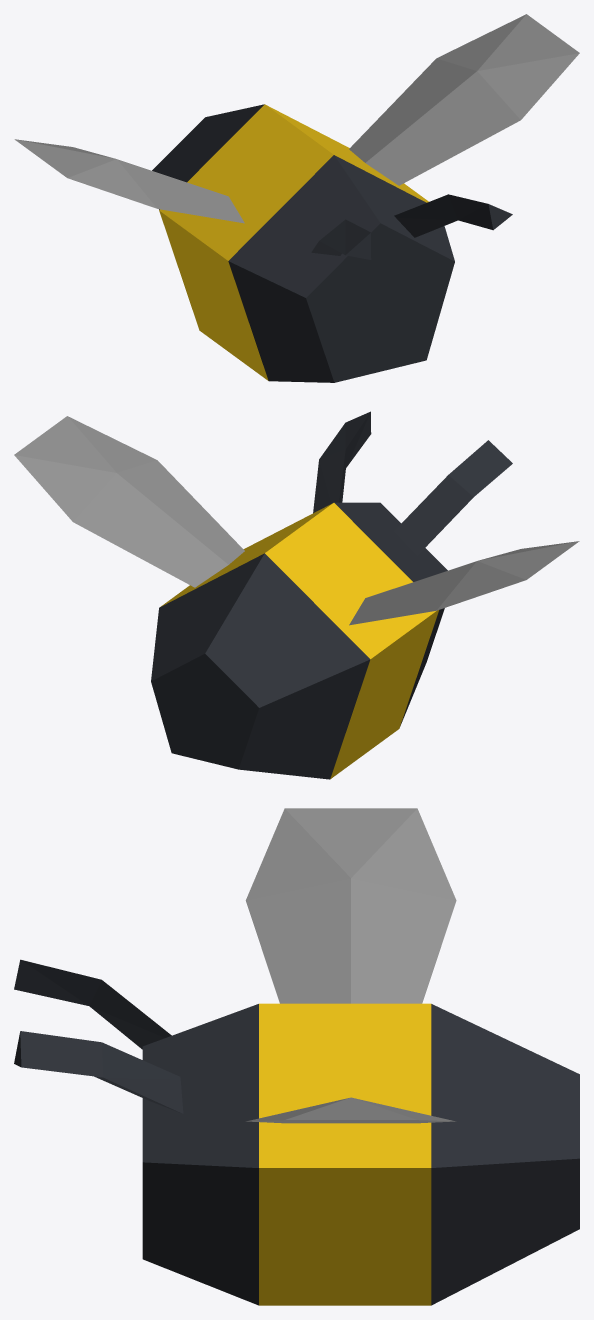
Rendered from Bee.fbx.
3 views of the same model, one above another, from view 1: azimuth 30°, elevation 25°; view 2: azimuth 150°, elevation 25°; view 3: azimuth 270°, elevation 25° (orthographic). The views are drawn at different scales.
Visible parts, largest first — view 1: Bee; view 2: Bee; view 3: Bee.
Boxes of the visible parts, left/top/right/bottom form: Bee: left=14, top=14, right=579, bottom=382; Bee: left=14, top=411, right=579, bottom=779; Bee: left=14, top=808, right=579, bottom=1305.
Bounding box in the file's own units: 19.9 × 8.98 × 15.27.
